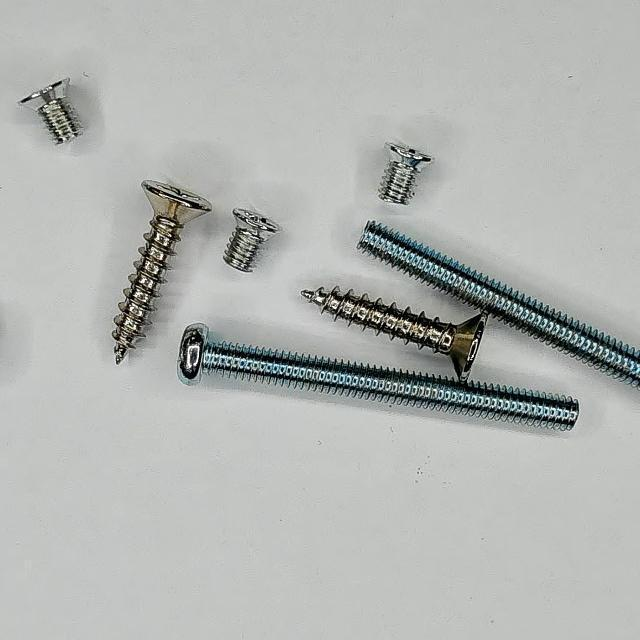Screw: (360, 222, 640, 388), (177, 324, 581, 430), (114, 180, 212, 364), (302, 287, 488, 380), (18, 77, 82, 144), (224, 208, 282, 272), (379, 139, 433, 204)
